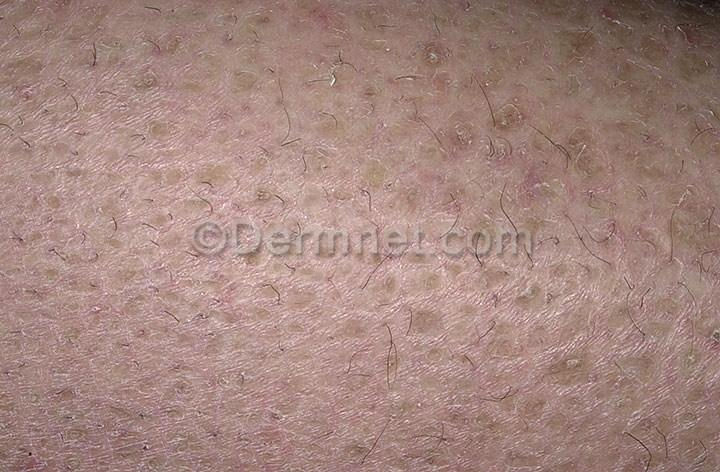eritema 1: (3, 4, 720, 472)
liquenificacion 1: (0, 0, 720, 472)
xerosis 3: (4, 0, 720, 472)
